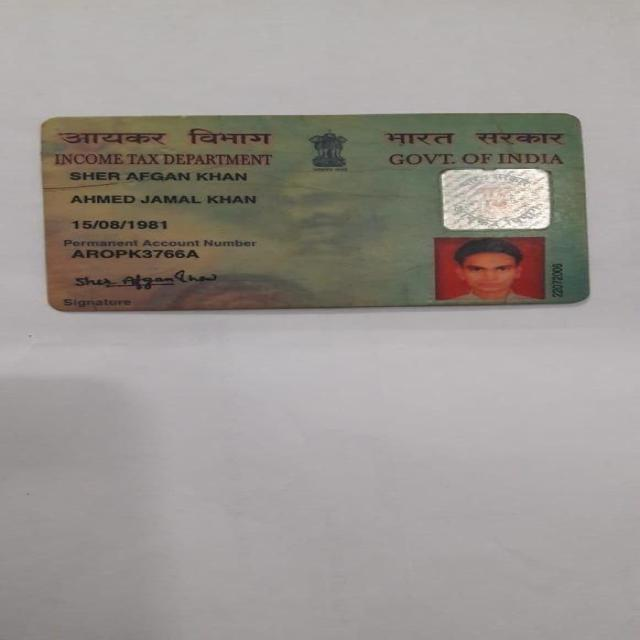pan_card: (44, 113, 581, 313)
